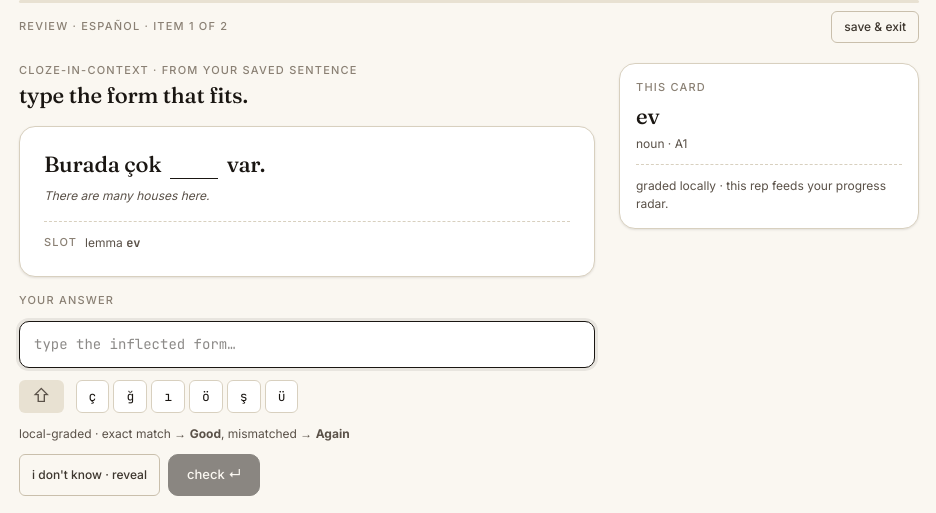
Test: ReviewSessionPage error handling › shows an error card with retry/skip when an item fails to grade
In the field with placeholder "type the inflected form…": (307, 344) top-left (19, 321), bottom-right (595, 368), type "evler"
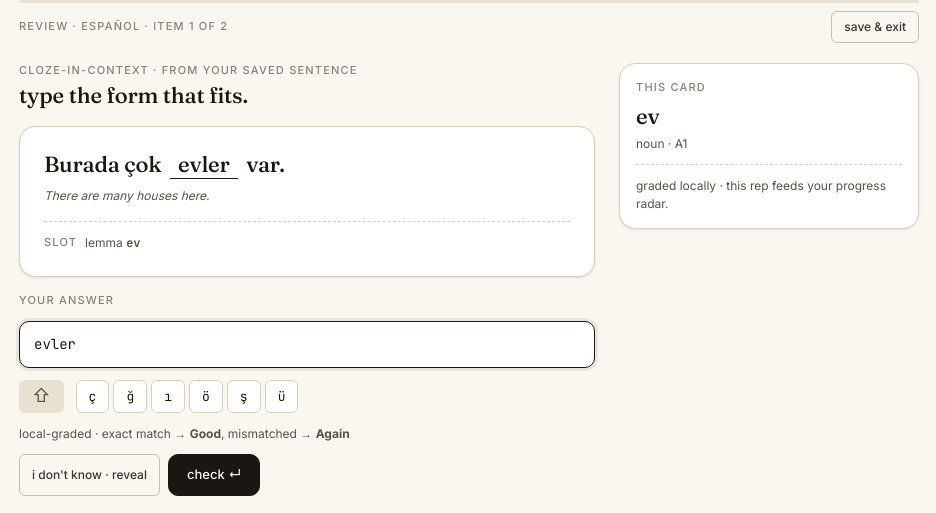
Click the button "check ↵": (214, 475) top-left (168, 454), bottom-right (260, 496)
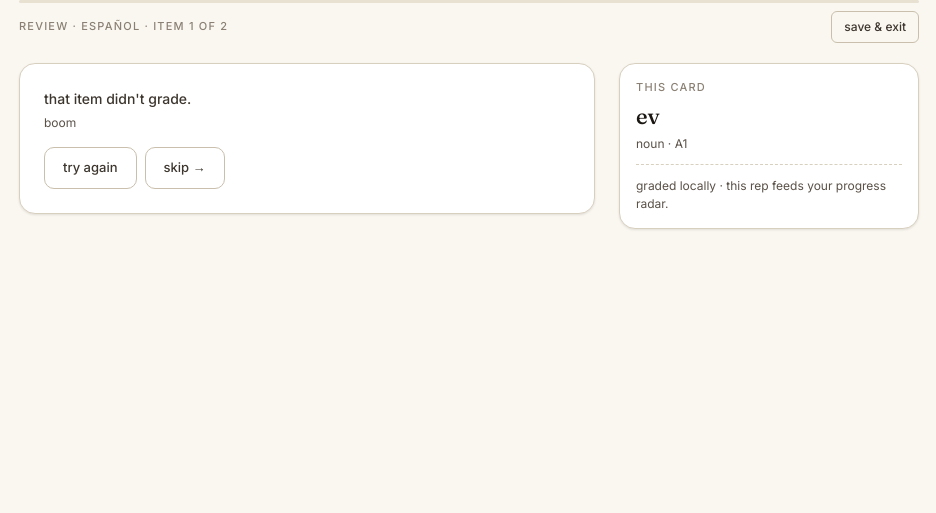
Expected: the text "that item didn't grade." is shown, top-left (44, 90), bottom-right (191, 107)
Expected: the button "try again" is shown, top-left (44, 147), bottom-right (136, 189)
Expected: the button "skip →" is shown, top-left (144, 147), bottom-right (224, 189)
